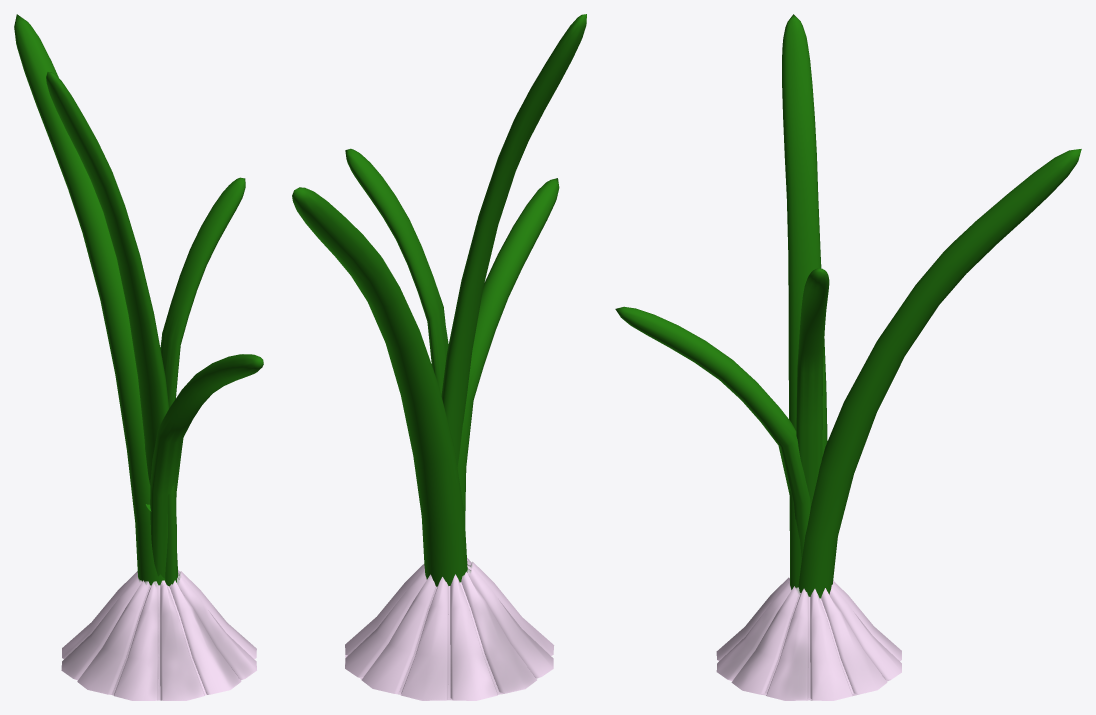
File: garlic2.fbx
The picture shows the model from 3 angles, left to right: view 1: azimuth 30°, elevation 25°; view 2: azimuth 150°, elevation 25°; view 3: azimuth 270°, elevation 25°; orthographic projection. The views are drawn at different scales.
Visible parts, largest first — view 1: garlic5; view 2: garlic5; view 3: garlic5.
Boxes of the visible parts, <box> form: garlic5: <box>14,14,263,700</box>; garlic5: <box>292,14,586,700</box>; garlic5: <box>615,14,1081,700</box>.
Bounding box in the file's own units: 0.299 × 0.8434 × 0.601.
Materials: 1 (1 with a texture image).
